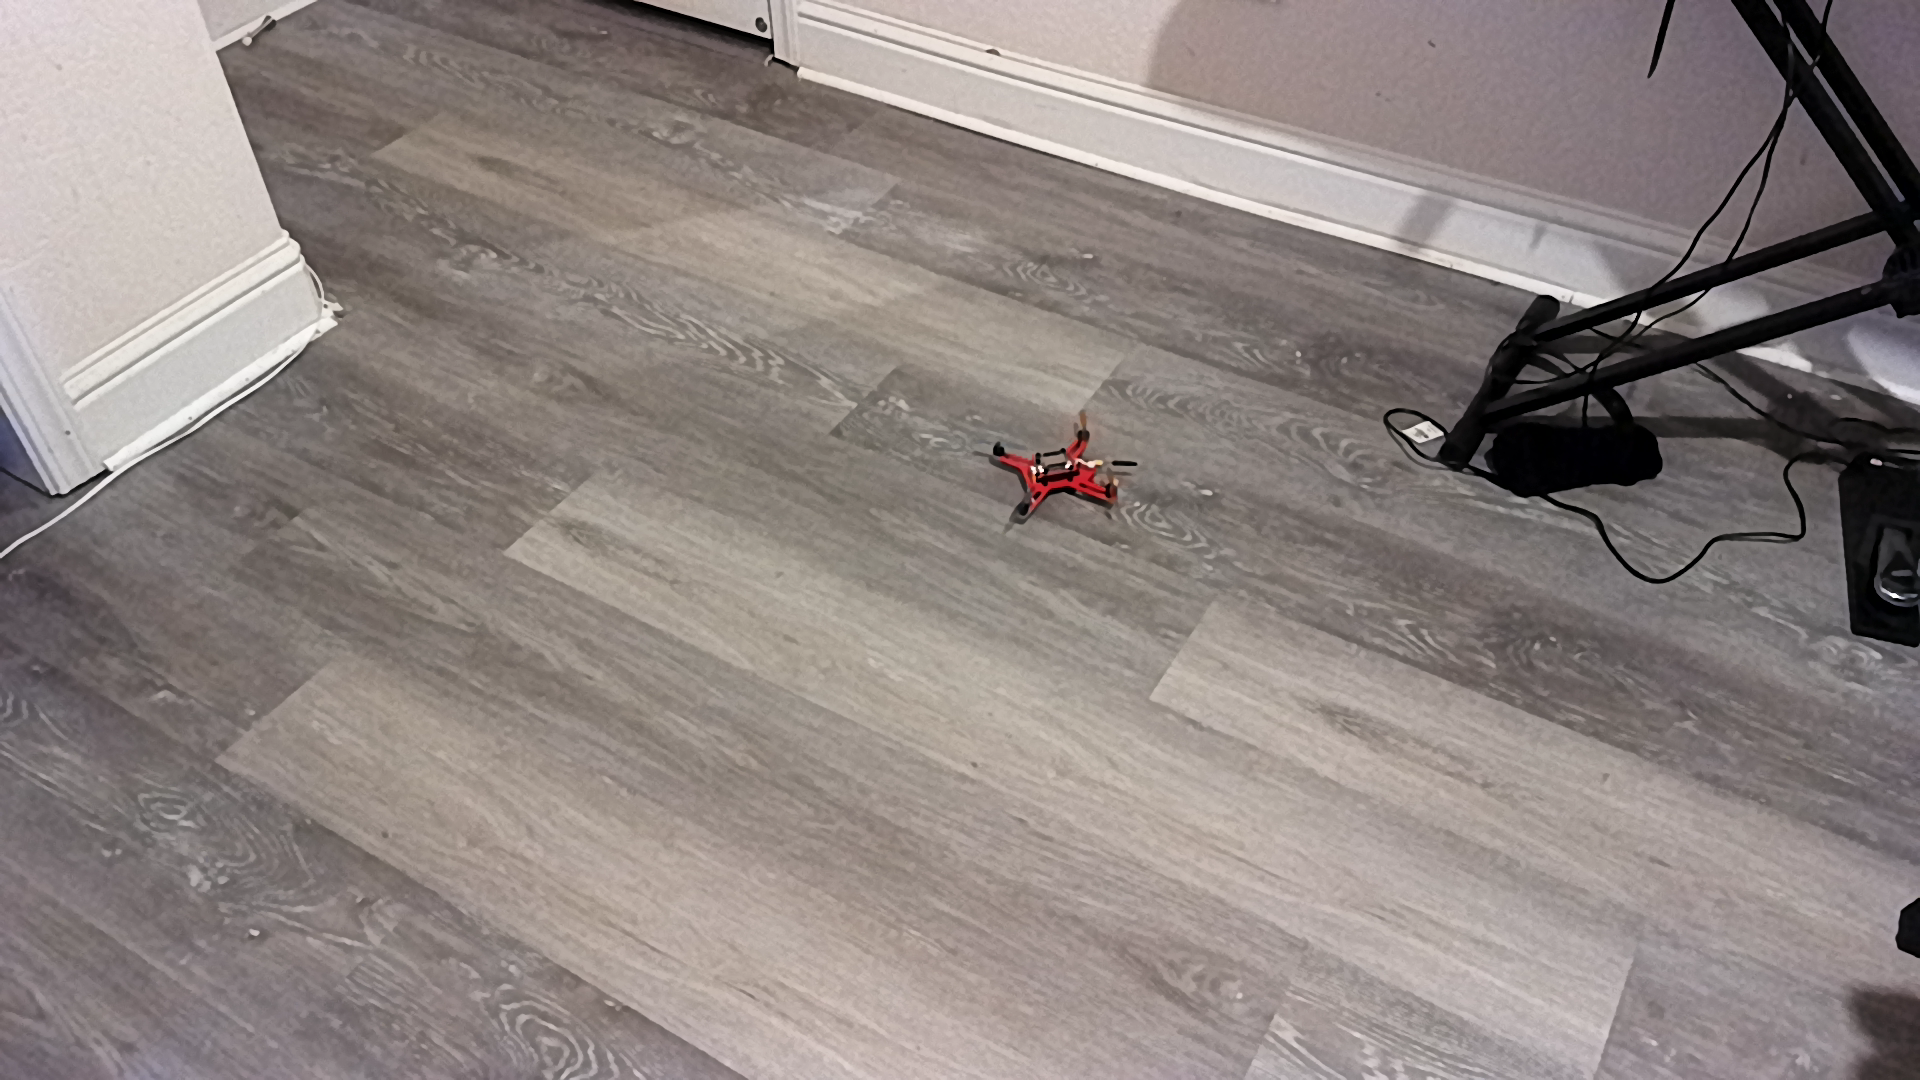drone: (959, 401, 1168, 564)
